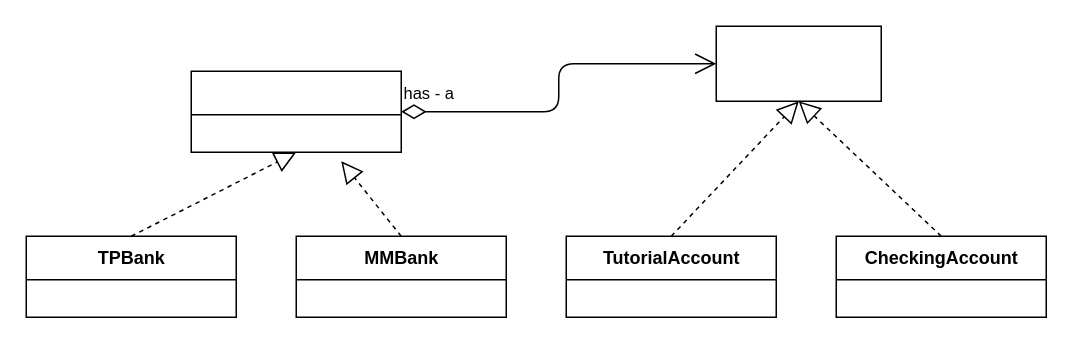
This 1073x344 diagram has some shape labels left out. The shapes that lost their labels are listed below. From the top down, each one's centre as x and y in pixels, then its label:
[798,63]: «interface» Account
[295,111]: <<Abstract>> Bank
